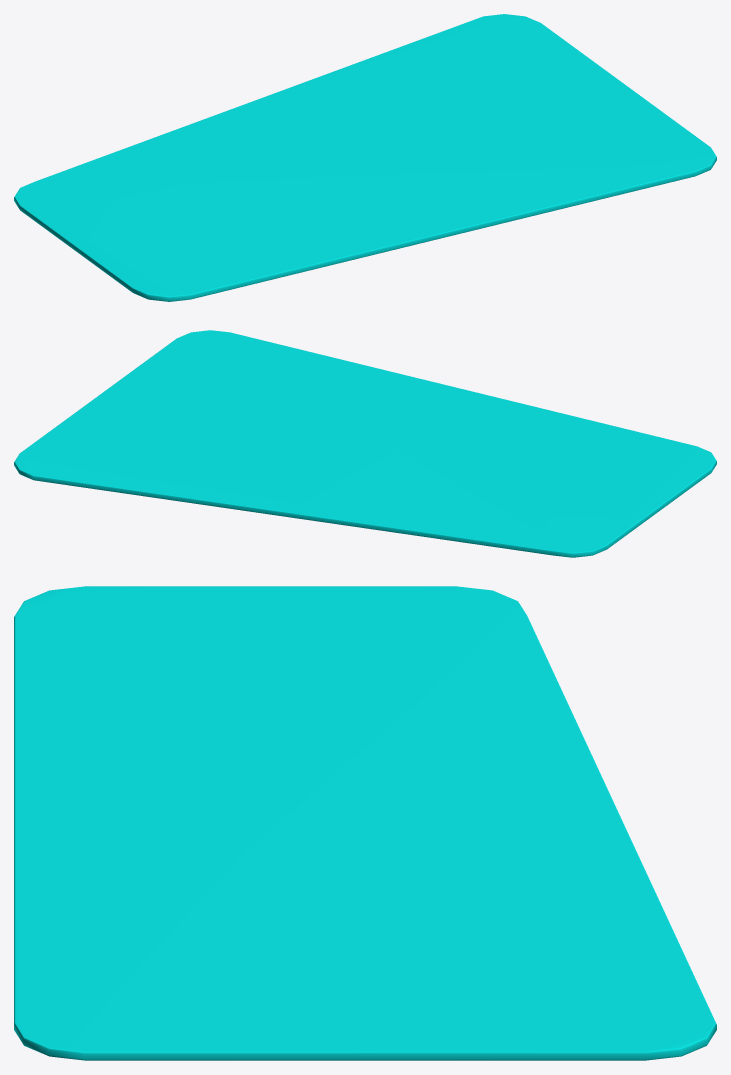
Rendered from Carpet_msh.fbx.
3 views of the same model, one above another, from view 1: azimuth 30°, elevation 25°; view 2: azimuth 150°, elevation 25°; view 3: azimuth 270°, elevation 25° (orthographic). The views are drawn at different scales.
Parts seen in each view (by area): view 1: Carpet_msh; view 2: Carpet_msh; view 3: Carpet_msh.
Boxes of the visible parts, left/top/right/bottom form: Carpet_msh: left=14, top=14, right=716, bottom=301; Carpet_msh: left=14, top=330, right=716, bottom=557; Carpet_msh: left=14, top=586, right=716, bottom=1060.
Size of the model in its own units: 110 by 1 by 70.
